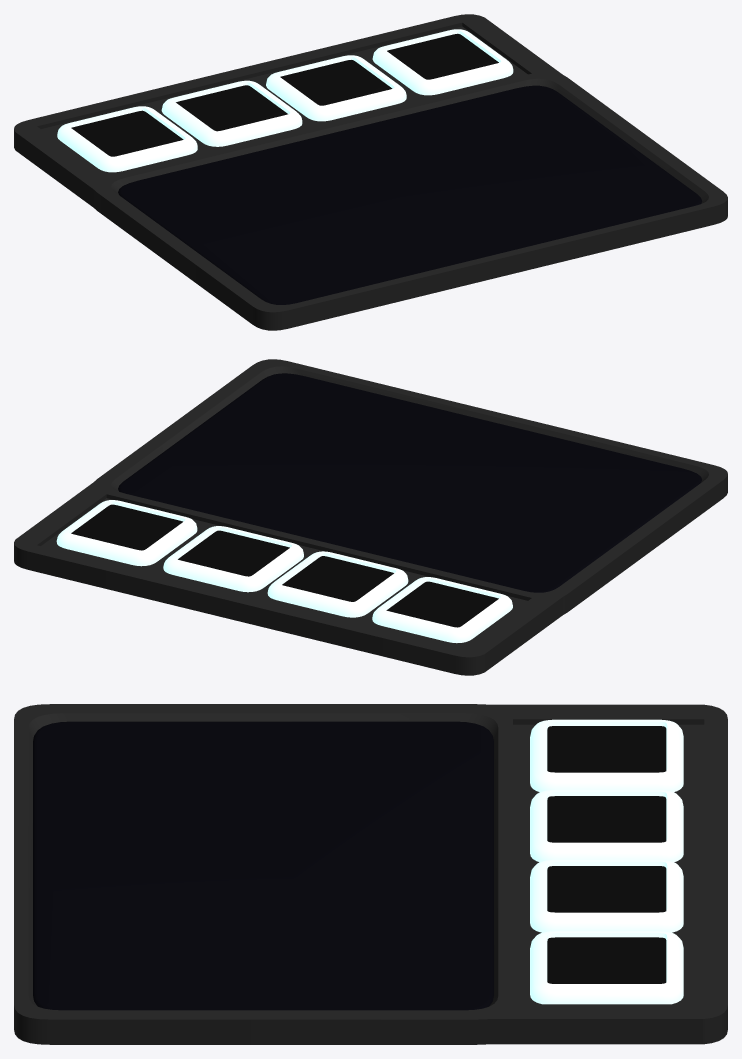
File: panel_numerique.fbx
The picture shows the model from 3 angles, top to bottom: view 1: azimuth 30°, elevation 25°; view 2: azimuth 150°, elevation 25°; view 3: azimuth 270°, elevation 25°; orthographic projection. The views are drawn at different scales.
Parts seen in each view (by area): view 1: Object001, Box003, Box005, Box004, Box002; view 2: Object001, Box004, Box002, Box003, Box005; view 3: Object001, Box002, Box003, Box005, Box004.
Part boxes in pixels (bbox=[...]): Object001: bbox=[14, 14, 727, 330]; Box003: bbox=[266, 55, 406, 121]; Box005: bbox=[57, 106, 197, 172]; Box004: bbox=[161, 80, 302, 146]; Box002: bbox=[372, 29, 513, 95]; Object001: bbox=[14, 359, 727, 675]; Box004: bbox=[267, 551, 408, 617]; Box002: bbox=[56, 500, 197, 566]; Box003: bbox=[163, 526, 303, 592]; Box005: bbox=[372, 577, 512, 643]; Object001: bbox=[14, 704, 727, 1044]; Box002: bbox=[530, 931, 683, 1004]; Box003: bbox=[530, 859, 683, 932]; Box005: bbox=[530, 719, 683, 791]; Box004: bbox=[530, 789, 683, 861].
Bounding box in the file's own units: 32.05 × 1.63 × 30.66.
